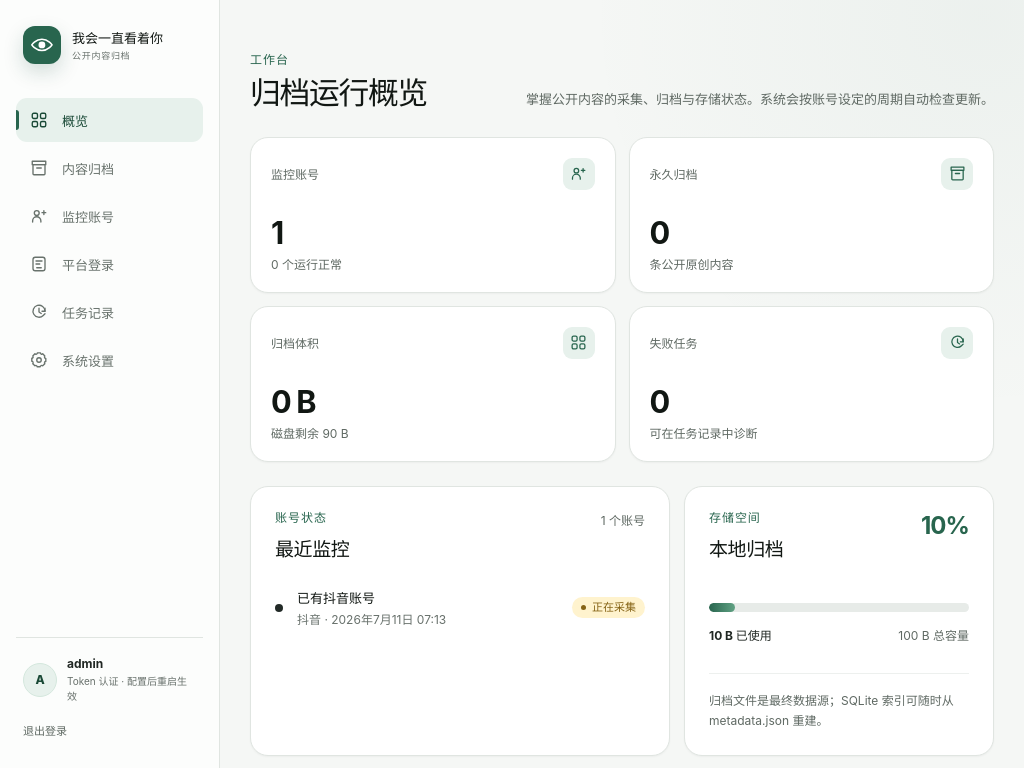
Test: dashboard account loading › disables account editing and deletion while that account is polling
Expected: the text "已有抖音账号" is shown, [297,590,375,606]
Click the button "监控账号".
click(110, 216)  # box [16,194,203,238]
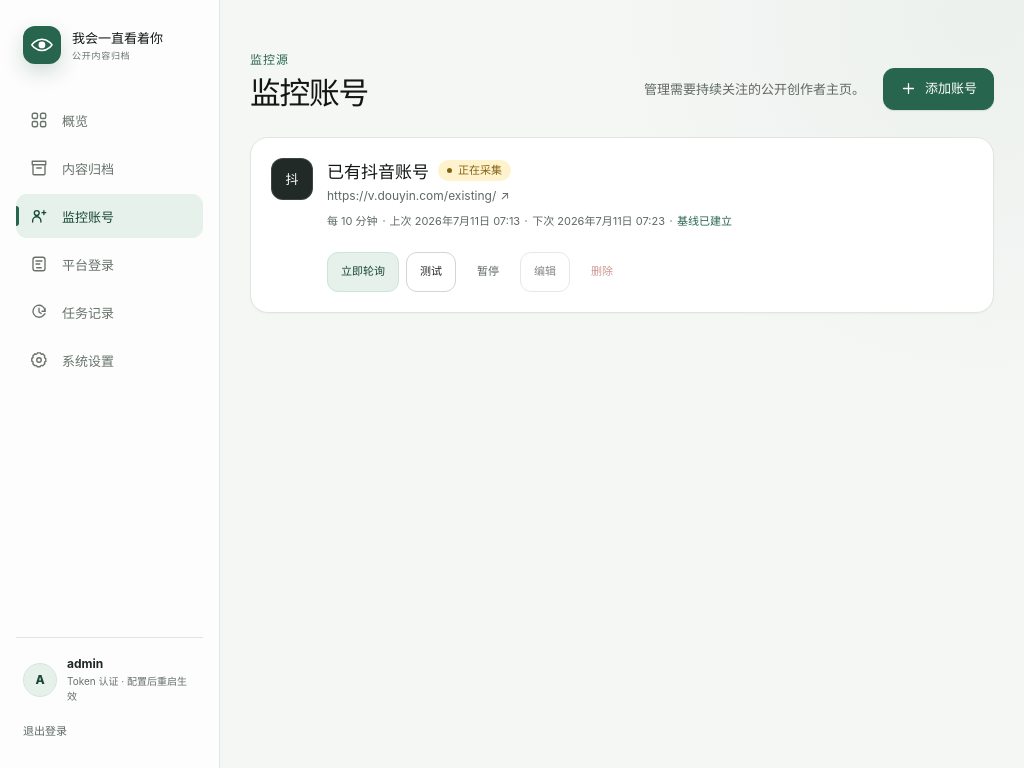
Now the button with aria-label "编辑 已有抖音账号" is disabled, box [520,252,570,292]
Now the button with aria-label "删除 已有抖音账号" is disabled, box [577,252,627,292]
